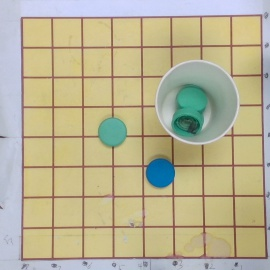blue: (146, 157, 175, 188)
cup_green: (156, 59, 239, 145)
green: (96, 117, 129, 148)
